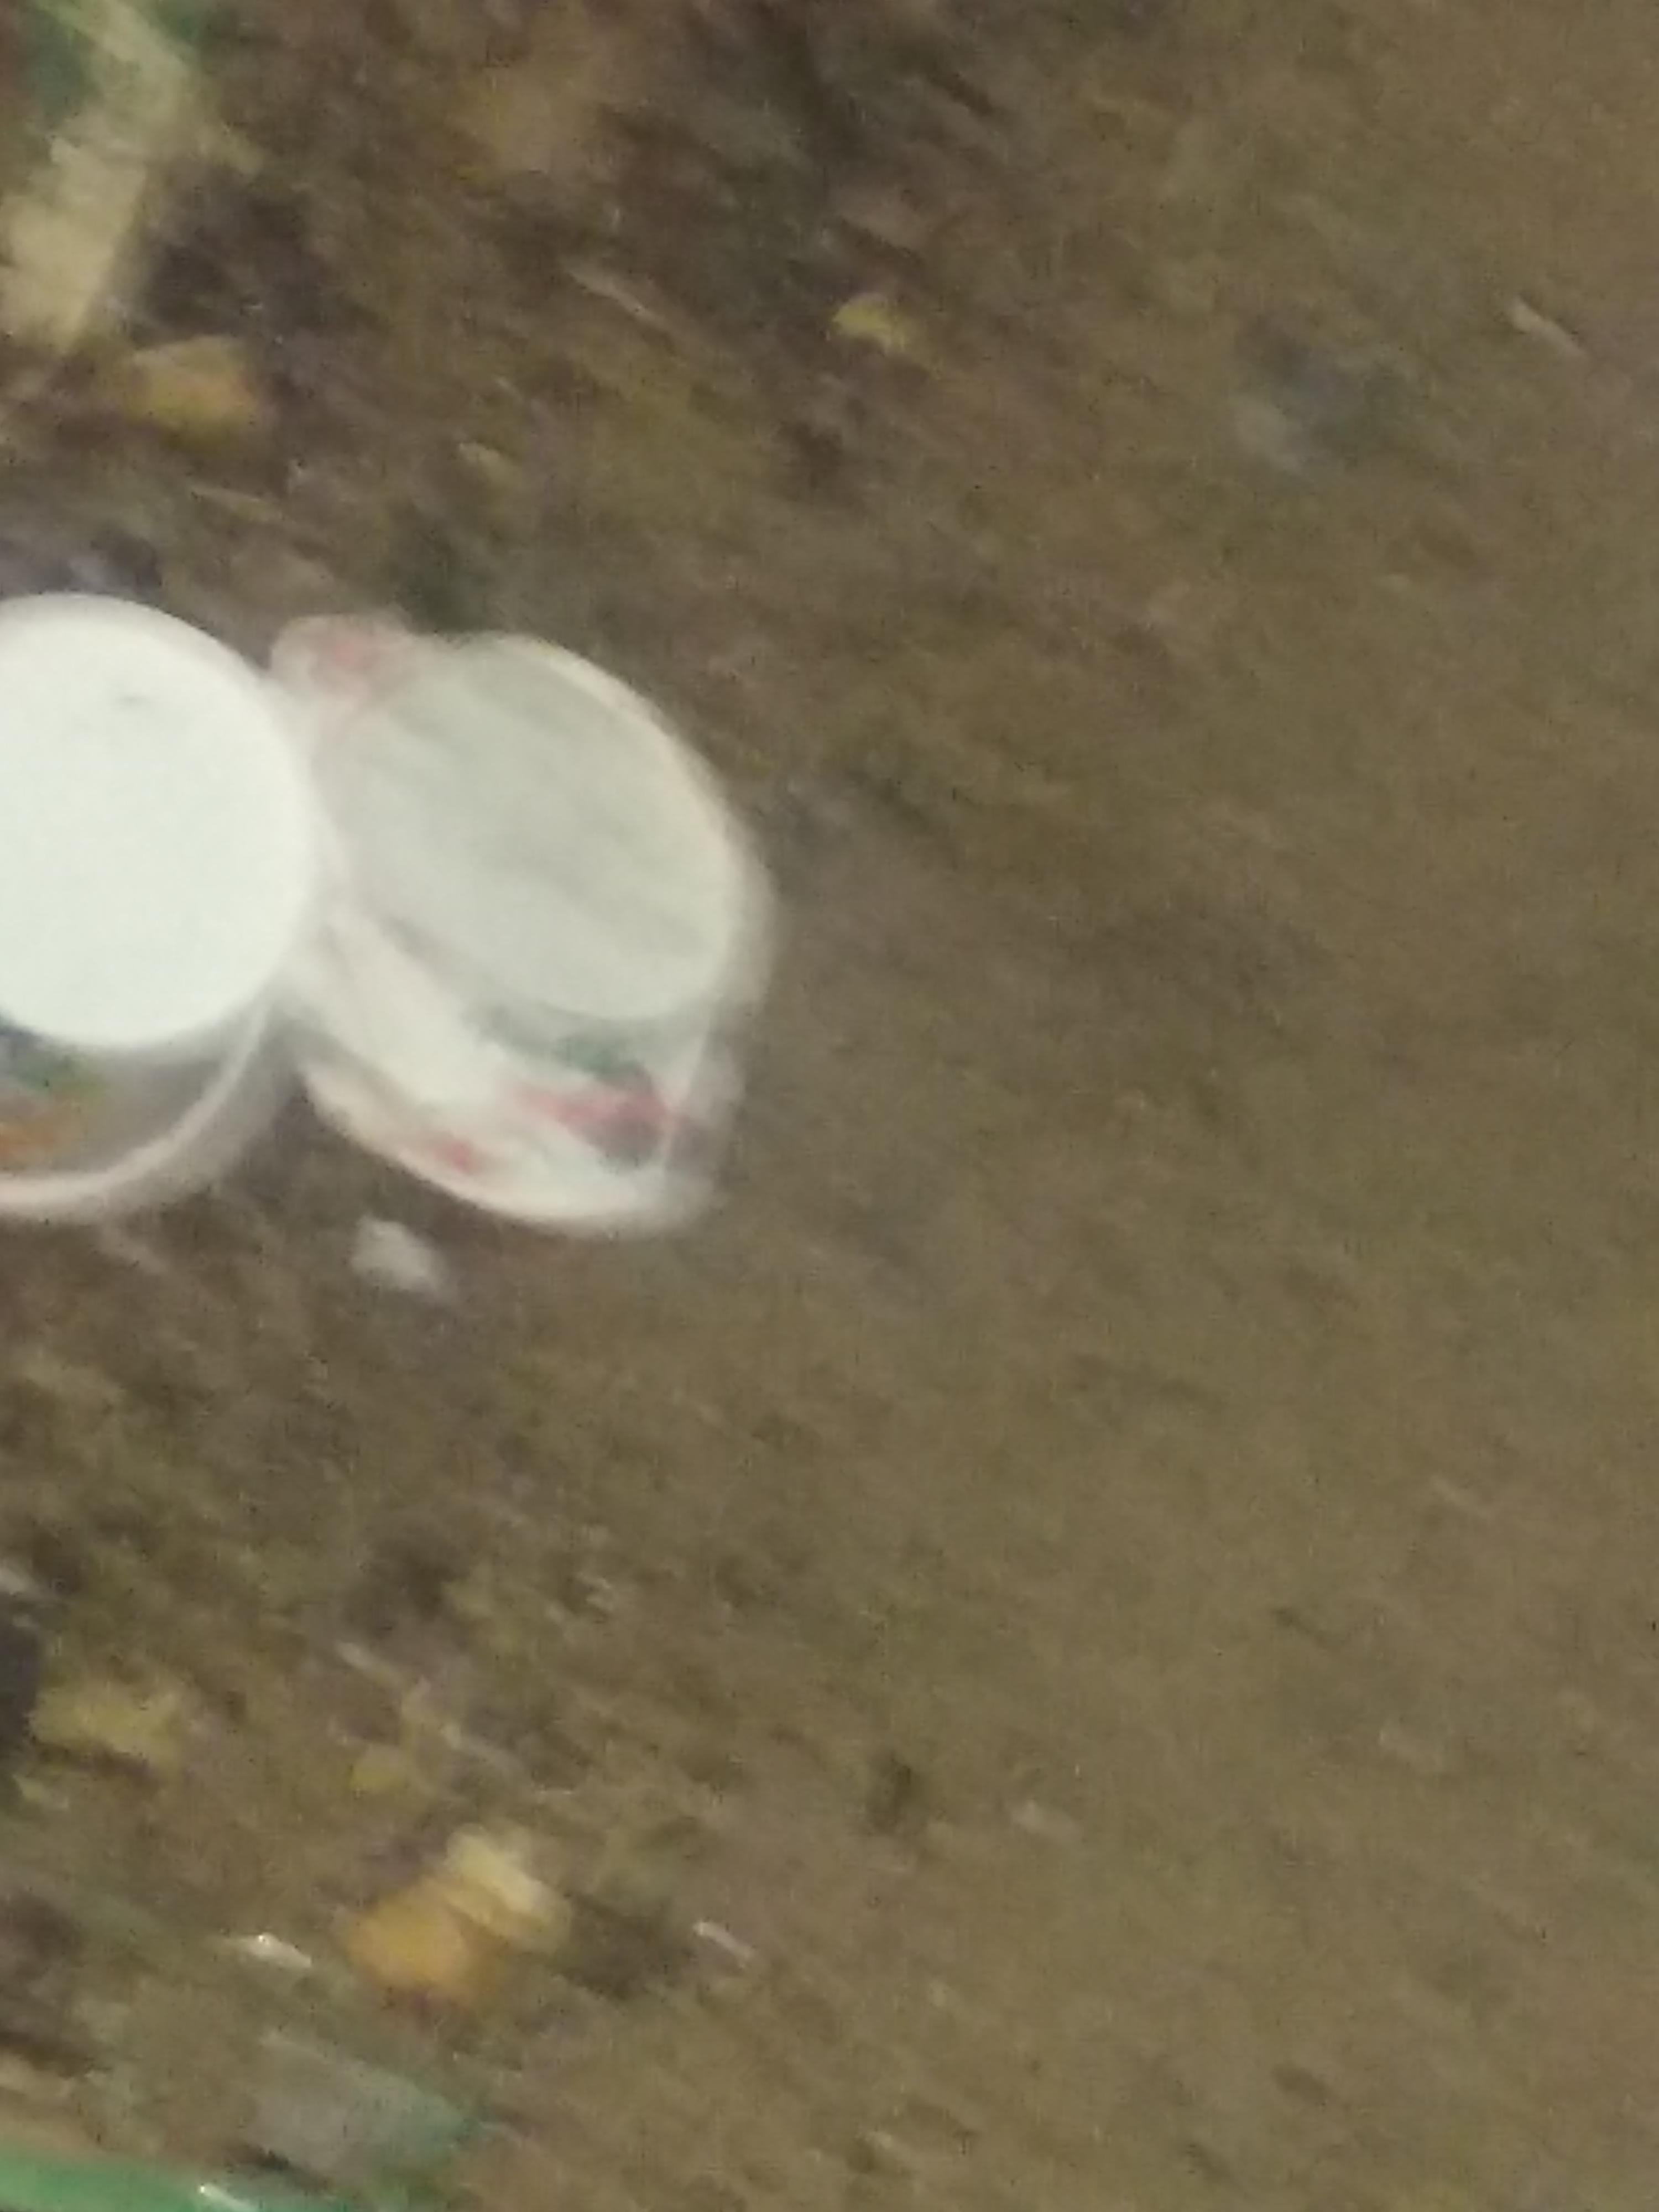trash: (0, 582, 800, 1256)
